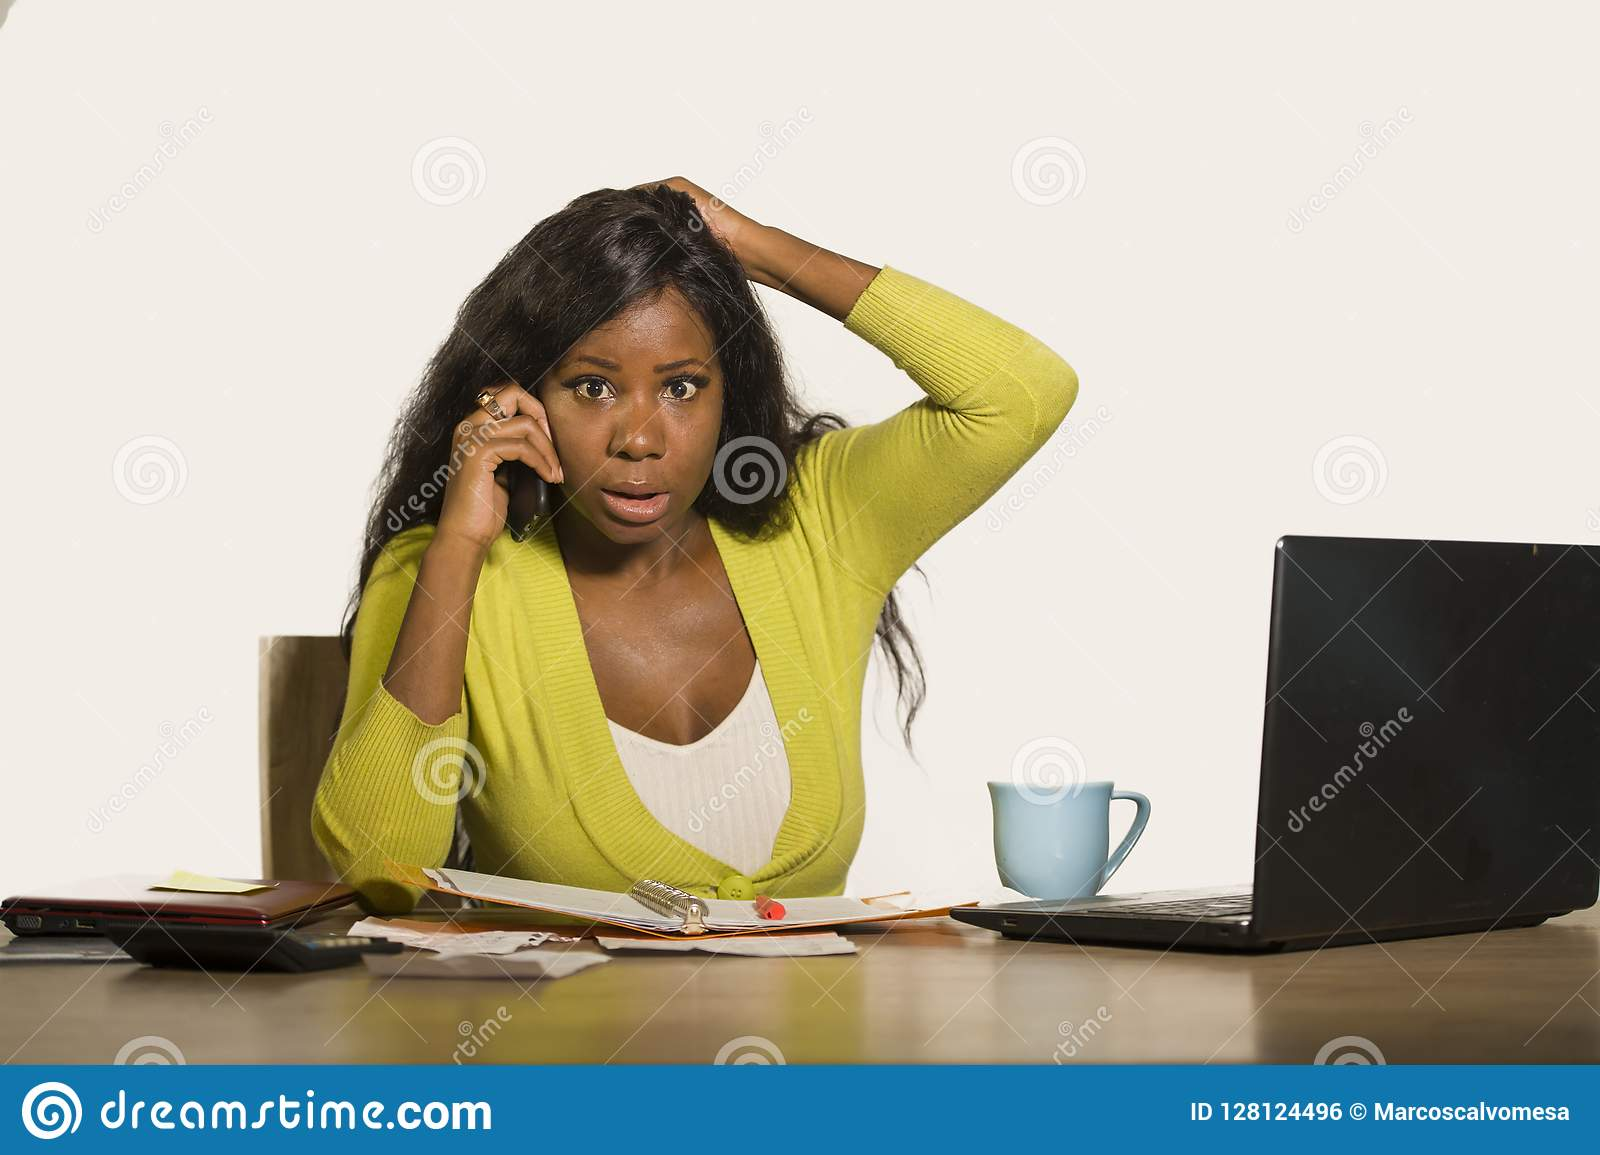phone: (497, 369, 557, 561)
talk: (446, 337, 724, 582)
